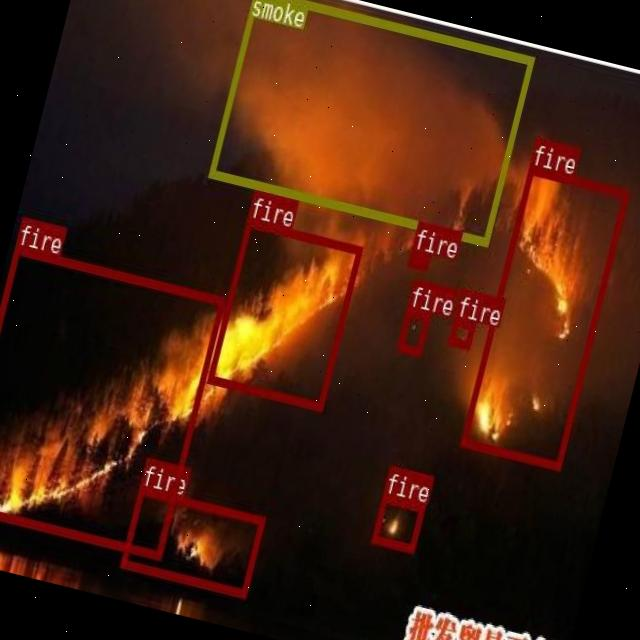fire: (0, 244, 224, 558), (459, 164, 628, 468), (206, 217, 361, 410), (119, 484, 264, 597), (370, 493, 425, 551), (396, 306, 431, 354), (448, 316, 474, 348), (406, 249, 429, 270)
smoke: (208, 0, 533, 245)
